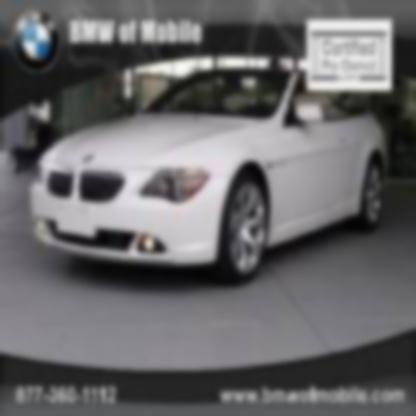Vehicle: (31, 65, 390, 277)
